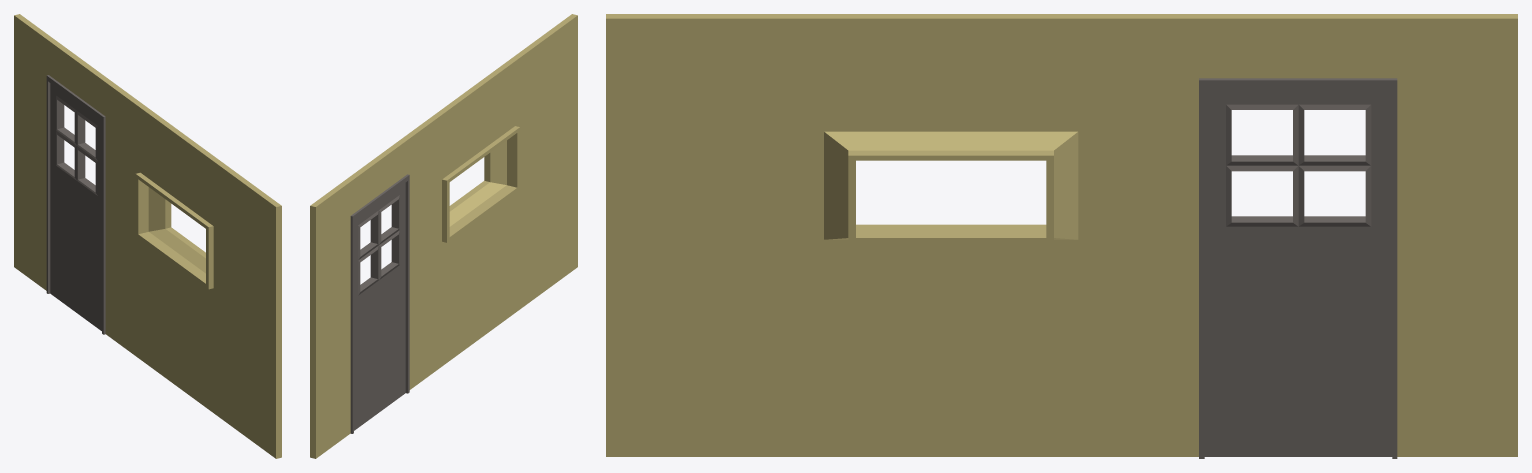
The model's file is wall.fbx.
3 renders of one model, left to right at view 1: azimuth 30°, elevation 25°; view 2: azimuth 150°, elevation 25°; view 3: azimuth 270°, elevation 25°, orthographic. The views are drawn at different scales.
Visible parts, largest first — view 1: pCube1; view 2: pCube1; view 3: pCube1.
Part boxes in pixels (x1=…): pCube1: x1=14, y1=14, x2=281, y2=458; pCube1: x1=310, y1=14, x2=577, y2=458; pCube1: x1=606, y1=14, x2=1517, y2=458.
Bounding box in the file's own units: 0.3078 × 2.78 × 5.25.
